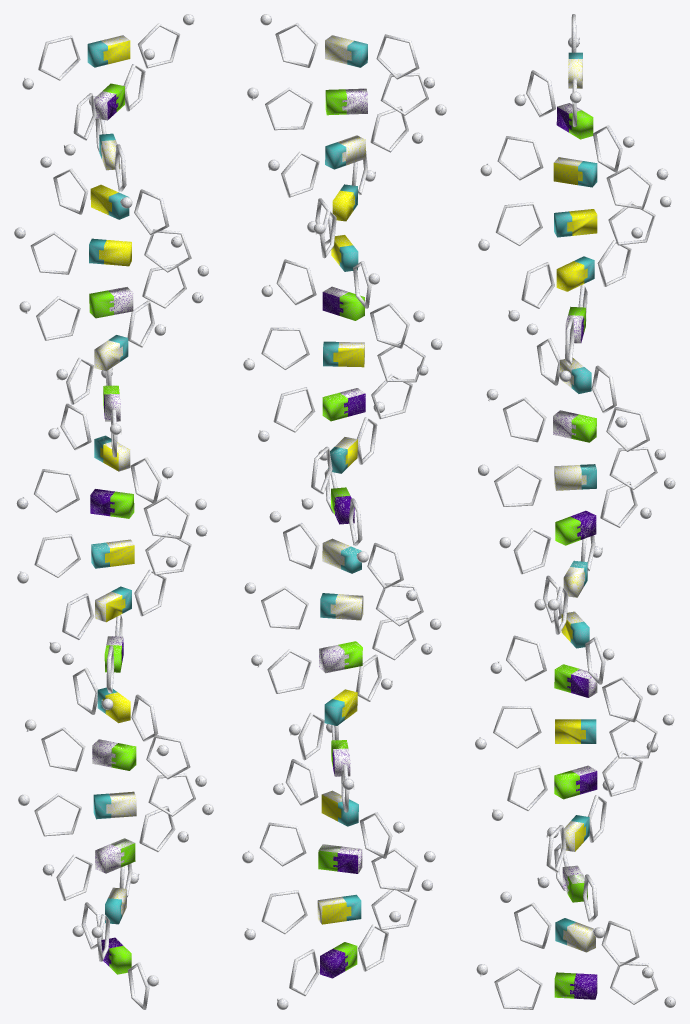
The model's file is dnafull.dae.
3 views of the same model, side by side, from view 1: azimuth 30°, elevation 25°; view 2: azimuth 150°, elevation 25°; view 3: azimuth 270°, elevation 25° (orthographic).
Visible parts, largest first — view 1: Group_1 (×18); view 2: Group_1 (×18); view 3: Group_1 (×19).
Boxes of the visible parts, x1,y1,x2,y2 form: Group_1 (×18): (89,35,136,974); Group_1 (×18): (317,35,367,978); Group_1 (×19): (553,110,597,999).
Size of the model in its own units: 1.65 by 1.61 by 8.52.
